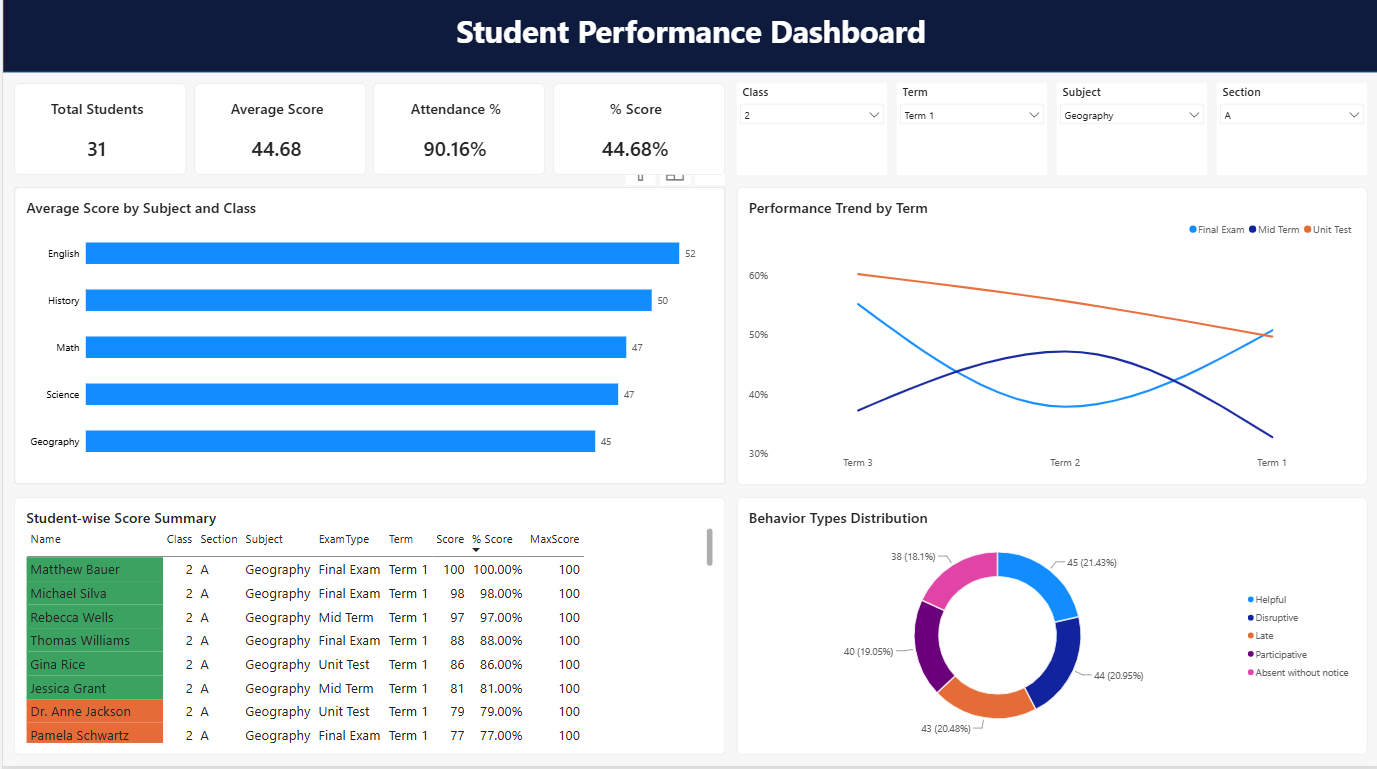

The page's visual inventory and layout, read from the dashboard file:
{"tool":"powerbi","page":{"name":"Academic Performance","canvas":[1920,1080],"ordinal":0},"visuals":[{"type":"cardVisual","title":"Total Students","fields":{"Data":["Measures_Table.Total_Students"]},"box":[16,128,240,128],"z":0,"group":"g2"},{"type":"slicer","fields":{"Values":["Students.Class"]},"box":[1024,128,209.5,128],"z":0,"group":"g1"},{"type":"barChart","title":"Average Score by Subject and Class","fields":{"Category":["Scores.Subject"],"Y":["Measures_Table.Average_Score"]},"box":[16,272,992,416],"z":0},{"type":"cardVisual","title":"Average Score","fields":{"Data":["Measures_Table.Average_Score"]},"box":[266.7,128,240,128],"z":1000,"group":"g2"},{"type":"slicer","fields":{"Values":["Students.Section"]},"box":[1694.5,128,209.5,128],"z":1000,"group":"g1"},{"type":"lineChart","title":"Performance Trend by Term","fields":{"Category":["Scores.Term"],"Series":["Scores.ExamType"],"Y":["Measures_Table.% Score"]},"box":[1024,272,880,416],"z":1000},{"type":"cardVisual","title":"Attendance % ","fields":{"Data":["Measures_Table.Attendance_%"]},"box":[517.3,128,240,128],"z":2000,"group":"g2"},{"type":"slicer","fields":{"Values":["Scores.Subject"]},"box":[1471,128,209.5,128],"z":2000,"group":"g1"},{"type":"tableEx","title":"Student-wise Score Summary","fields":{"Values":["Students.Name","Sum(Students.Class)","Students.Section","Scores.Subject","Scores.ExamType","Scores.Term","Sum(Scores.Score)","Measures_Table.% Score","Sum(Scores.MaxScore)"]},"box":[16,704,992,360],"z":2000},{"type":"cardVisual","title":"% Score","fields":{"Data":["Measures_Table.% Score"]},"box":[768,128,240,128],"z":3000,"group":"g2"},{"type":"slicer","fields":{"Values":["Scores.Term"]},"box":[1247.5,128,209.5,128],"z":3000,"group":"g1"},{"type":"donutChart","title":"Behavior Types Distribution","fields":{"Category":["Behavior.BehaviorType"],"Y":["CountNonNull(Behavior.BehaviorType)"]},"box":[1024,704,880,360],"z":3000},{"type":"shape","box":[0,0,1920,112],"z":4000},{"type":"textbox","box":[0,24,1920,72],"z":5000},{"type":"group","id":"g1","title":"Slicers","box":[1024,128,880,128],"z":6000},{"type":"group","id":"g2","title":"KPI Cards","box":[16,128,992,128],"z":7000}]}

Visuals, with their boxes in screenshot pixels (x1, y1, x2, y2), scaled from the page's 1920x1080 canvas onto the 1377x769 screenshot:
"Total Students" cardVisual: (11,91,184,182)
slicer - Students.Class: (734,91,885,182)
"Average Score by Subject and Class" barChart: (11,194,723,490)
"Average Score" cardVisual: (191,91,363,182)
slicer - Students.Section: (1215,91,1366,182)
"Performance Trend by Term" lineChart: (734,194,1366,490)
"Attendance % " cardVisual: (371,91,543,182)
slicer - Scores.Subject: (1055,91,1205,182)
"Student-wise Score Summary" tableEx: (11,501,723,758)
"% Score" cardVisual: (551,91,723,182)
slicer - Scores.Term: (895,91,1045,182)
"Behavior Types Distribution" donutChart: (734,501,1366,758)
shape: (0,0,1376,80)
textbox: (0,17,1376,68)
"Slicers" group: (734,91,1366,182)
"KPI Cards" group: (11,91,723,182)
